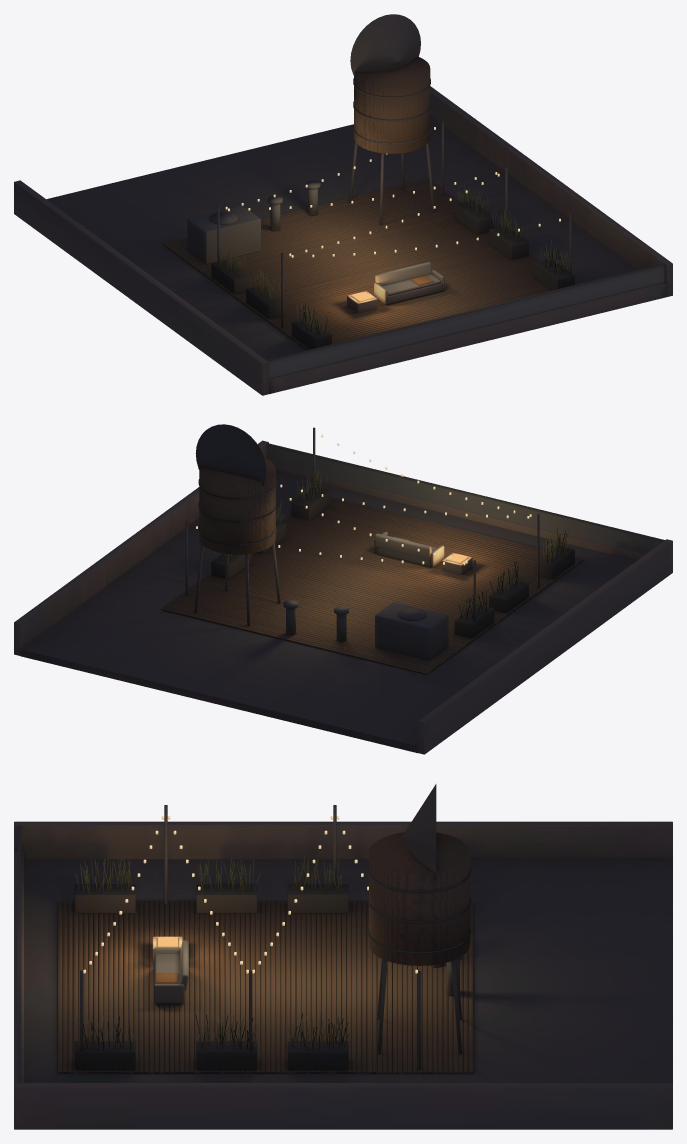
The model's file is rooftop.glb.
The picture shows the model from 3 angles, top to bottom: view 1: azimuth 30°, elevation 25°; view 2: azimuth 150°, elevation 25°; view 3: azimuth 270°, elevation 25°; orthographic projection. The views are drawn at different scales.
Parts seen in each view (by area): view 1: ground, things, lights; view 2: ground, things, lights; view 3: ground, things, lights.
Part boxes in pixels (x1,y1,x2,y2): ground: (14,86,672,395); things: (187,14,665,378); lights: (225,127,560,301); ground: (14,440,672,754); things: (185,424,664,660); lights: (196,434,531,565); ground: (14,821,672,1129); things: (17,784,471,1082); lights: (83,816,417,973).
Bounding box in the file's own units: 18.6 × 8.45 × 19.5.
Materials: 5 (2 with a texture image).
